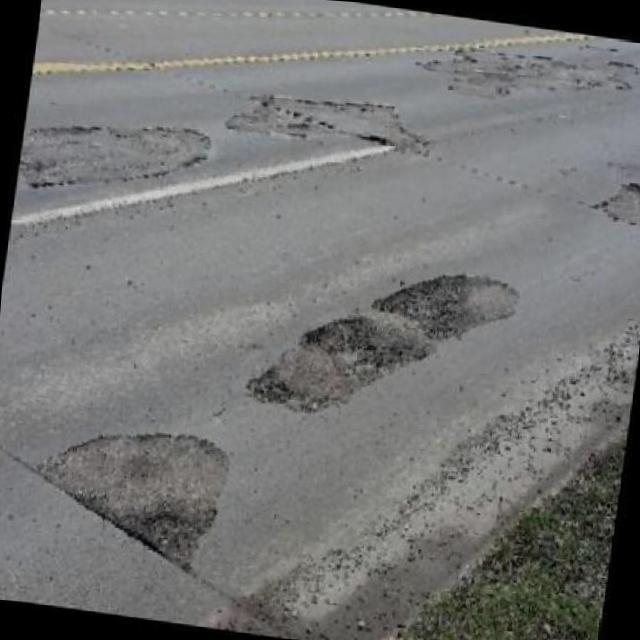Pothole: (35, 435, 230, 576), (247, 317, 429, 411), (18, 127, 211, 185), (224, 95, 416, 152), (415, 47, 629, 96), (373, 273, 519, 342), (590, 183, 640, 223)
